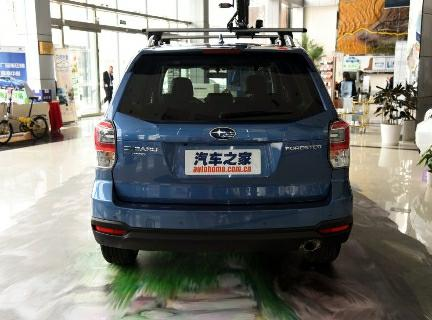car: (88, 37, 359, 283)
